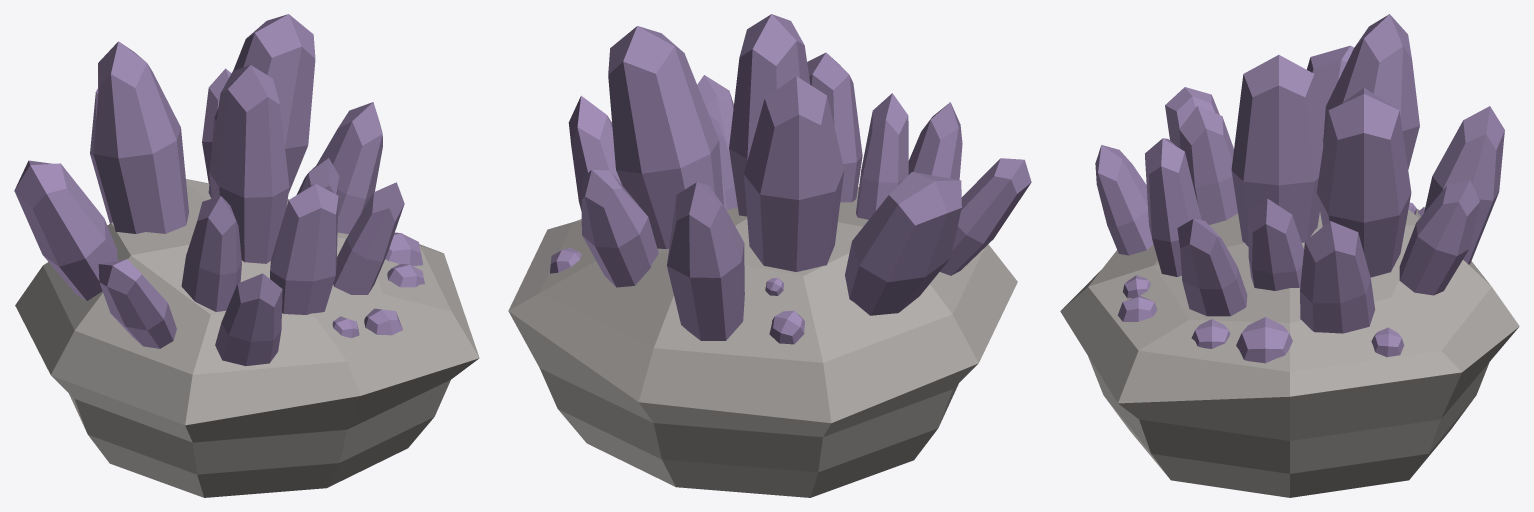
File: Crystal_4.fbx
3 renders of one model, left to right at view 1: azimuth 30°, elevation 25°; view 2: azimuth 150°, elevation 25°; view 3: azimuth 270°, elevation 25°, orthographic. The views are drawn at different scales.
Parts seen in each view (by area): view 1: Crystal_4; view 2: Crystal_4; view 3: Crystal_4.
Part boxes in pixels (<box>): Crystal_4: <box>14,14,479,497</box>; Crystal_4: <box>508,14,1031,497</box>; Crystal_4: <box>1060,14,1519,497</box>.
Size of the model in its own units: 436 by 431 by 390.
